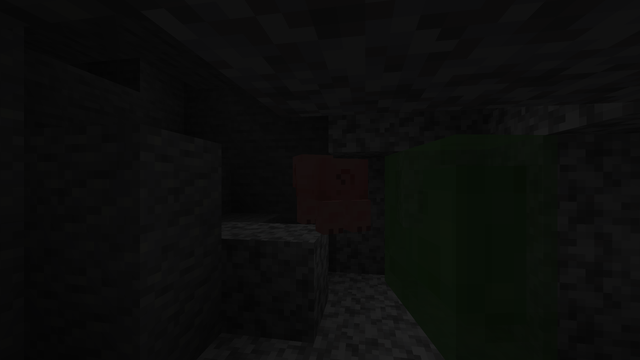cochons: (287, 156, 361, 232)
slimes: (392, 125, 630, 357)
